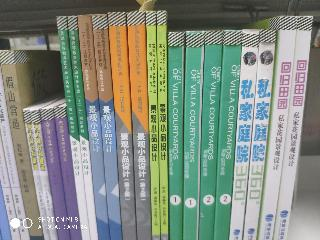book-spine: (255, 16, 296, 240), (274, 16, 312, 240), (0, 50, 42, 240), (242, 30, 275, 240), (58, 18, 89, 240), (226, 29, 258, 239), (79, 16, 109, 240), (68, 17, 97, 240), (93, 15, 120, 240), (212, 31, 241, 240), (109, 13, 135, 240), (196, 32, 222, 239), (128, 12, 150, 240), (182, 31, 202, 239), (41, 109, 68, 240), (23, 110, 49, 240), (32, 111, 57, 240), (55, 108, 79, 240), (147, 12, 159, 239), (157, 12, 168, 239), (170, 33, 182, 239)
